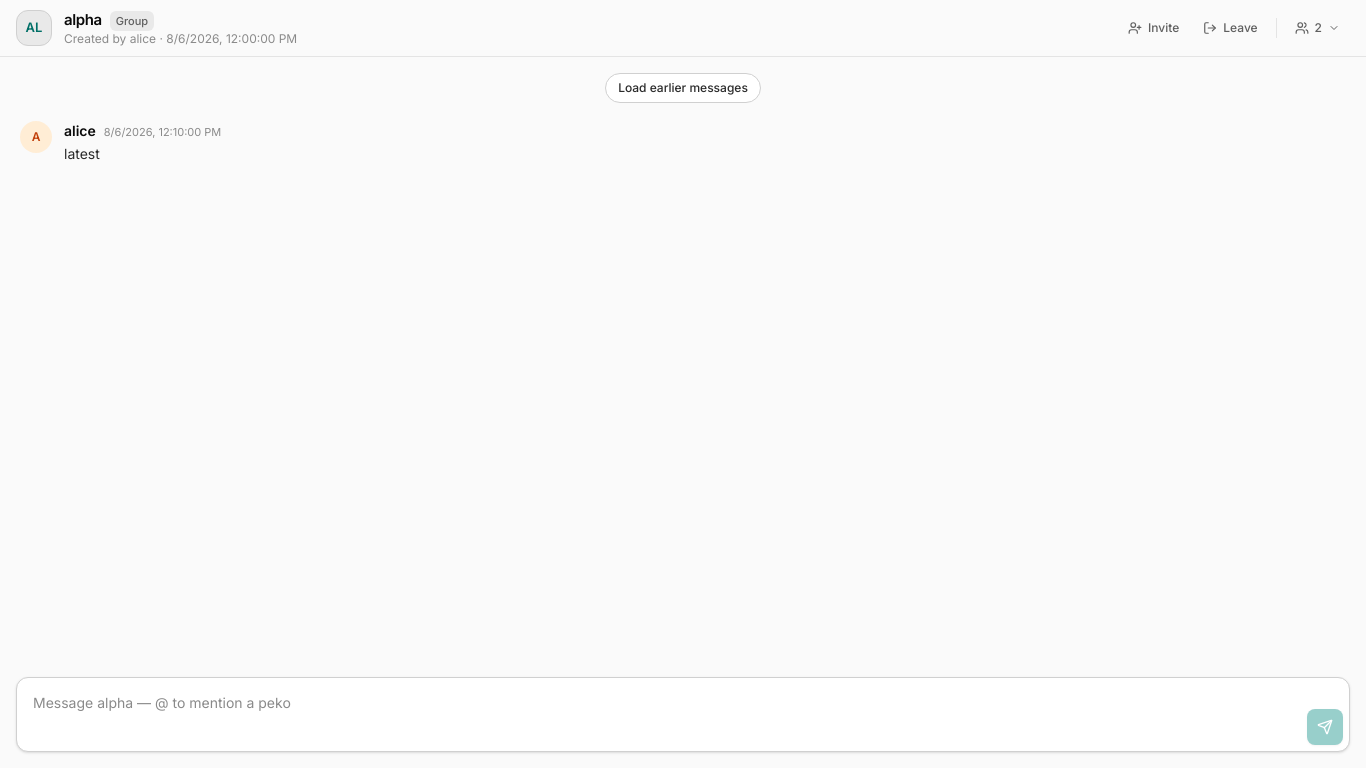
Test: ChannelView › loads earlier messages of a group joined from another computer
Click the button "Load earlier messages" at (683, 88), box [605,73,761,103]
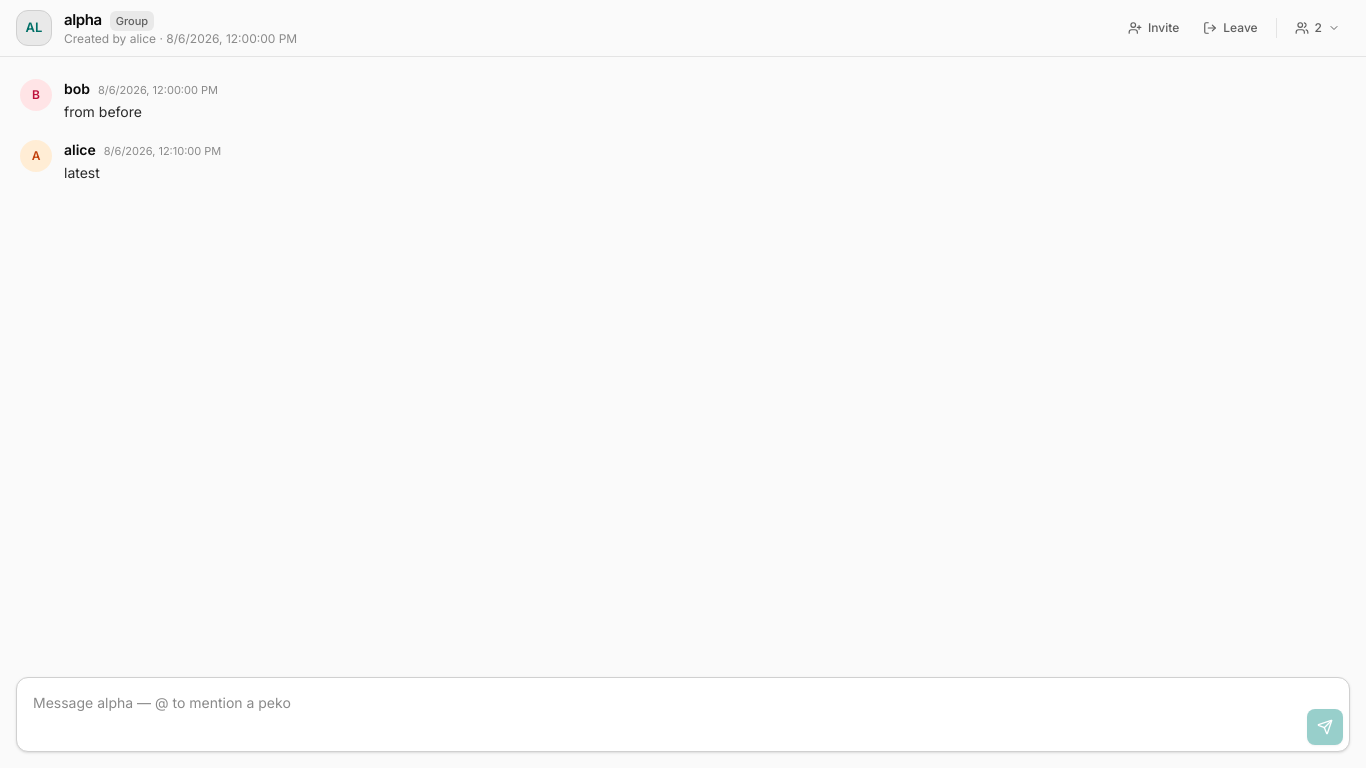
Expected: the text "from before" is shown, [64,103,142,120]
Expected: the button "Load earlier messages" is gone
